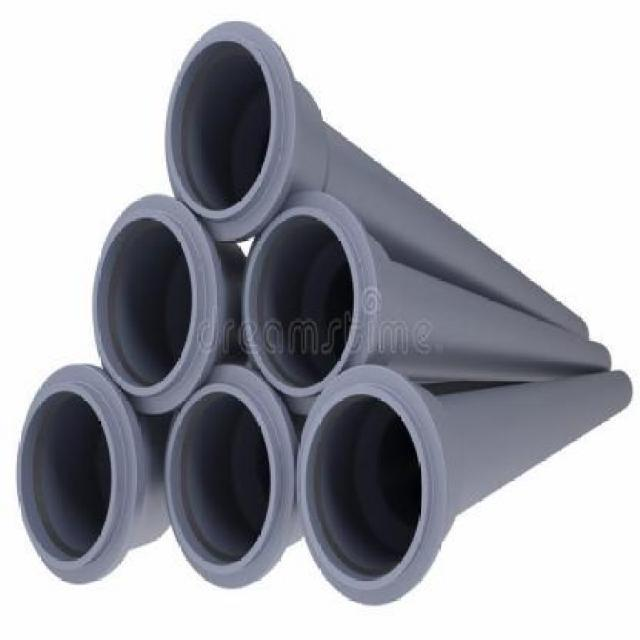pipe: (297, 365, 445, 608), (241, 189, 376, 414), (165, 365, 293, 591), (164, 20, 295, 240), (92, 194, 215, 415), (17, 364, 136, 586)
